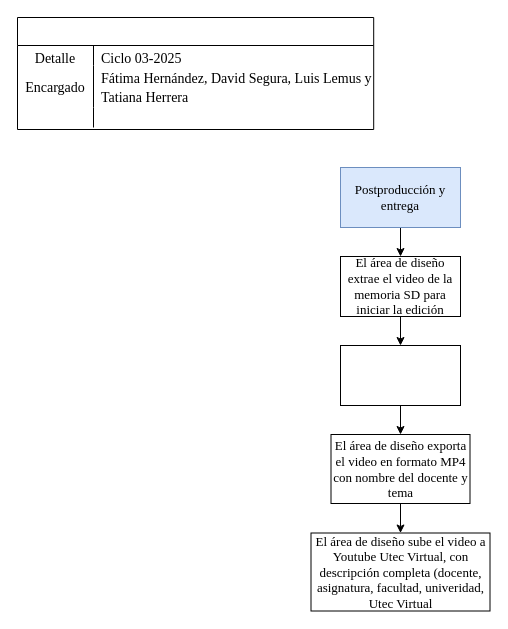
Image size: 508x629. Some labels were removed from this diagram. Each missing label, with the box of its shape:
El área de diseño edita el video en Adobe Premiere y Audition: (340, 344, 460, 406)
Toma de video clases, parte 2: (16, 16, 374, 130)
